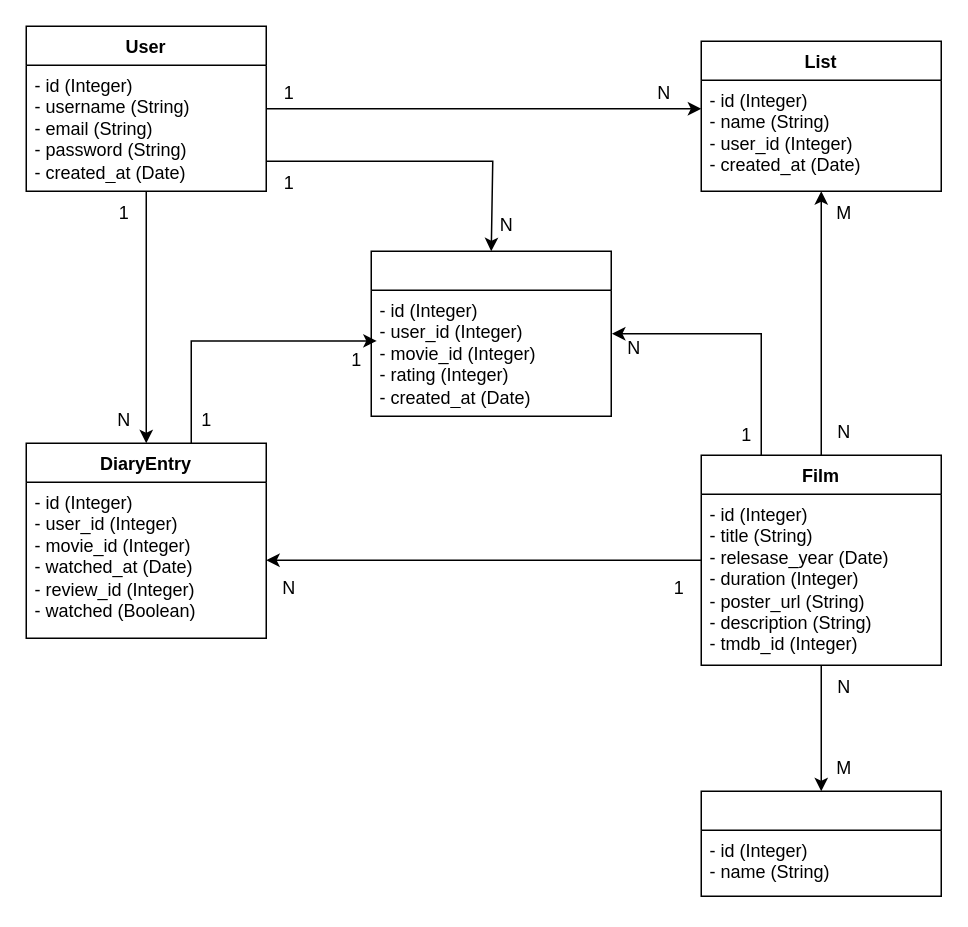
The diagram is 968 pixels wide and 927 high, and some of its shapes have lost their labels. Here are the shapes that lost their labels. From the top down, the box of each, then its label:
(370, 250, 611, 416): Review
(700, 790, 941, 896): Genre
